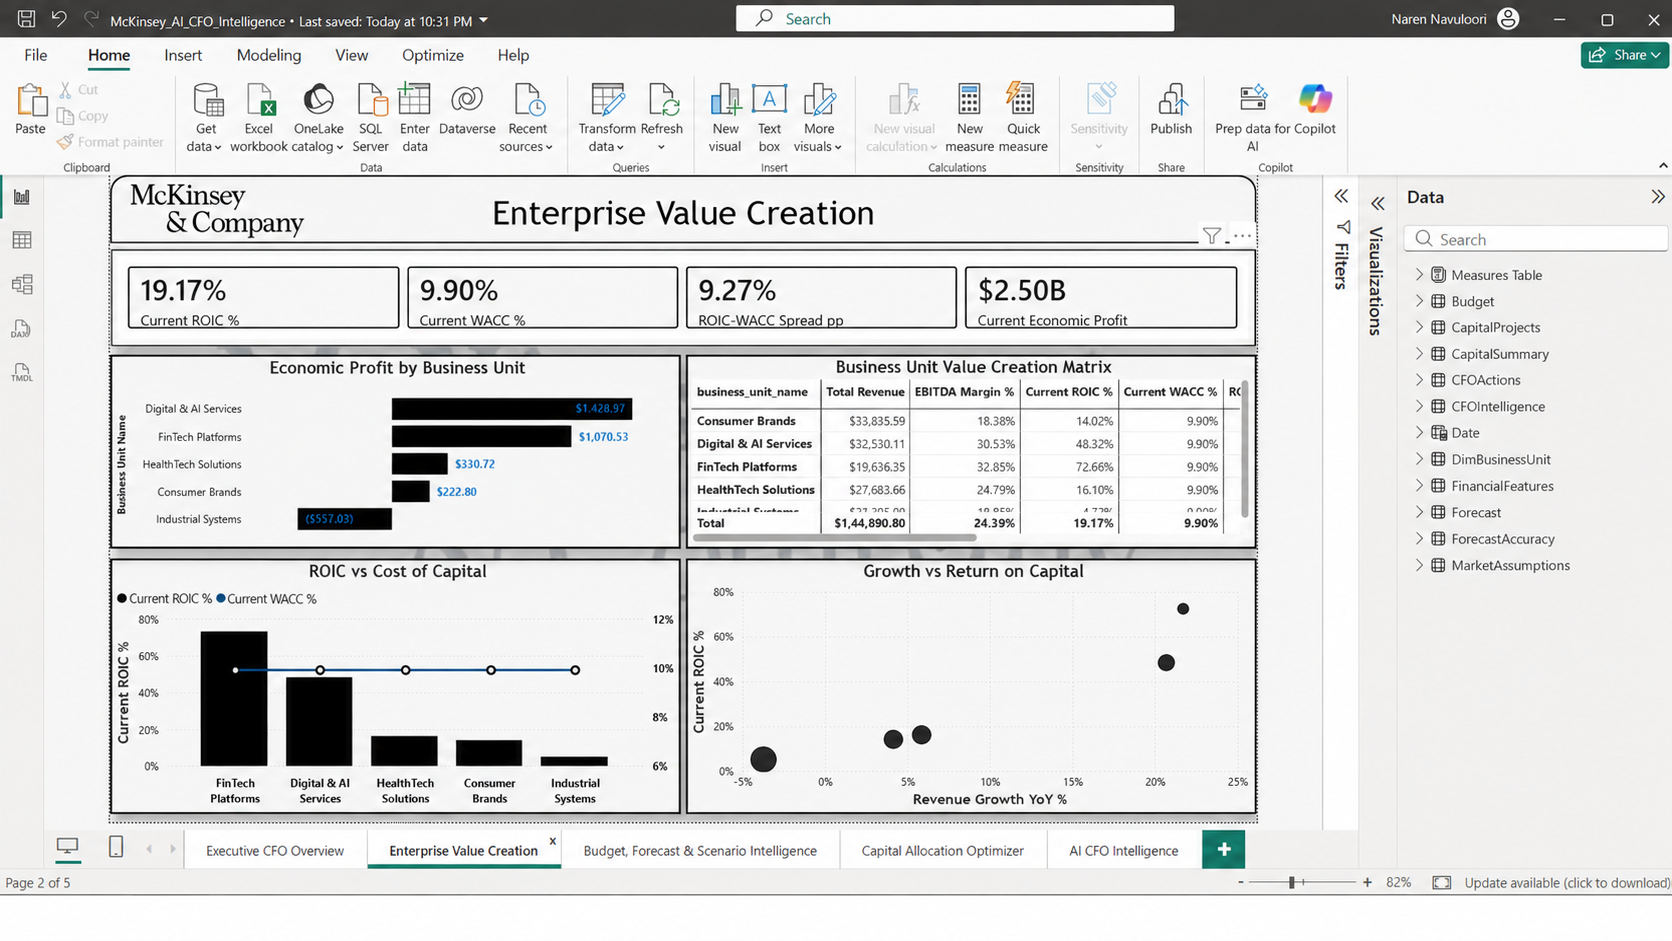

The page's visual inventory and layout, read from the dashboard file:
{"tool":"powerbi","page":{"name":"Enterprise Value Creation","canvas":[1280,720],"ordinal":1},"visuals":[{"type":"shape","box":[0,0,1280.3,75.8],"z":0},{"type":"image","box":[14,5.1,207.4,66.2],"z":1000},{"type":"cardVisual","fields":{"Data":["Measures Table.Current ROIC %","Measures Table.Current WACC %","Measures Table.ROIC-WACC Spread pp","Measures Table.Current Economic Profit"]},"box":[0,81.4,1280.3,110.7],"z":2000},{"type":"lineClusteredColumnComboChart","title":"ROIC vs Cost of Capital","fields":{"Category":["DimBusinessUnit.business_unit_name"],"Y":["Measures Table.Current ROIC %"],"Y2":["Measures Table.Current WACC %"]},"box":[0,426.3,637.6,285.1],"z":3000},{"type":"clusteredBarChart","title":"Economic Profit by Business Unit","fields":{"Category":["DimBusinessUnit.business_unit_name"],"Y":["Measures Table.Current Economic Profit"]},"box":[0,201.1,637.6,216.3],"z":4000},{"type":"scatterChart","title":"Growth vs Return on Capital","fields":{"X":["Measures Table.Revenue Growth YoY %"],"Y":["Measures Table.Current ROIC %"],"Size":["Measures Table.Current Invested Capital"],"Category":["DimBusinessUnit.business_unit_name"]},"box":[642.7,426.3,637.6,285.1],"z":5000},{"type":"pivotTable","title":"Business Unit Value Creation Matrix","fields":{"Rows":["DimBusinessUnit.business_unit_name"],"Values":["Measures Table.Total Revenue","Measures Table.EBITDA Margin %","Measures Table.Current ROIC %","Measures Table.Current WACC %","Measures Table.ROIC-WACC Spread pp","Measures Table.Current Economic Profit","Measures Table.Current Value Status"]},"box":[642.7,201.1,637.6,216.3],"z":6000}]}

Visuals, with their boxes on the page's 1280x720 design canvas (x1, y1, x2, y2). These are canvas units, not pixel positions in the 1672x941 screenshot, which may show the page scaled, cropped or inside an application window:
shape: <box>0,0,1280,76</box>
image: <box>14,5,221,71</box>
cardVisual - Measures Table.Current ROIC % x Measures Table.Current WACC %: <box>0,81,1280,192</box>
"ROIC vs Cost of Capital" lineClusteredColumnComboChart: <box>0,426,638,711</box>
"Economic Profit by Business Unit" clusteredBarChart: <box>0,201,638,417</box>
"Growth vs Return on Capital" scatterChart: <box>643,426,1280,711</box>
"Business Unit Value Creation Matrix" pivotTable: <box>643,201,1280,417</box>
